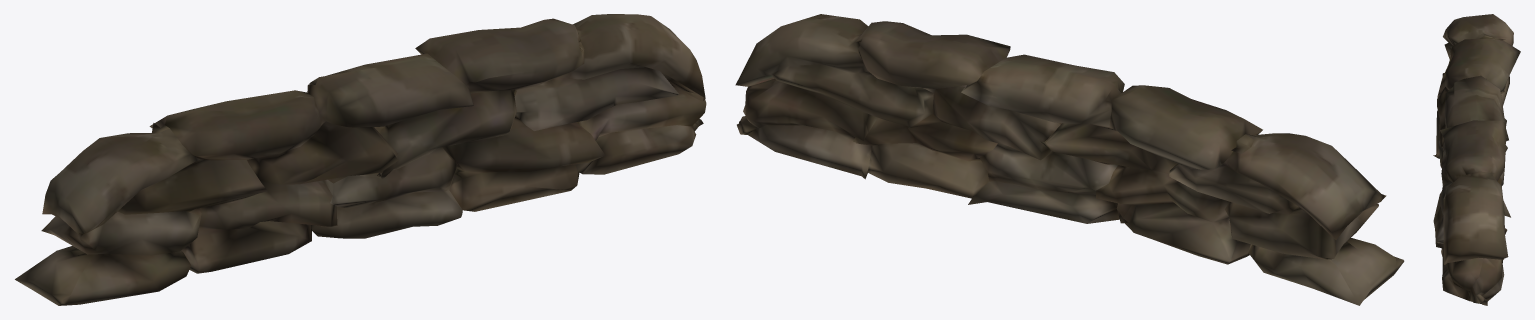
File: p_sandbags.glb
3 views of the same model, side by side, from view 1: azimuth 30°, elevation 25°; view 2: azimuth 150°, elevation 25°; view 3: azimuth 270°, elevation 25° (orthographic). The views are drawn at different scales.
Parts seen in each view (by area): view 1: SM_SBFlat; view 2: SM_SBFlat; view 3: SM_SBFlat.
Boxes of the visible parts, <box> form: SM_SBFlat: <box>15,14,706,305</box>; SM_SBFlat: <box>735,14,1404,305</box>; SM_SBFlat: <box>1433,14,1520,305</box>.
Bounding box in the file's own units: 4.56 × 1.02 × 0.7348.
1 material, 1 textured.
